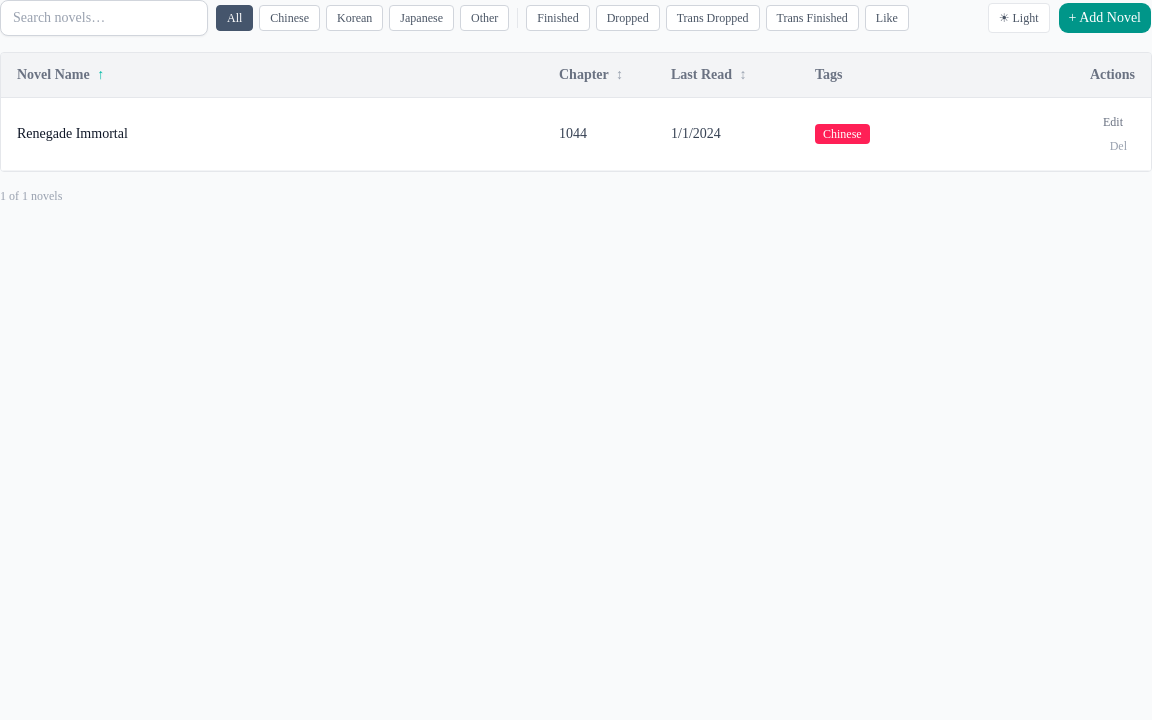
Test: Duplicate detection › shows duplicate notice when an existing name is submitted
Click the button "+ Add Novel" at (1105, 18), box [1058,2,1151,34]
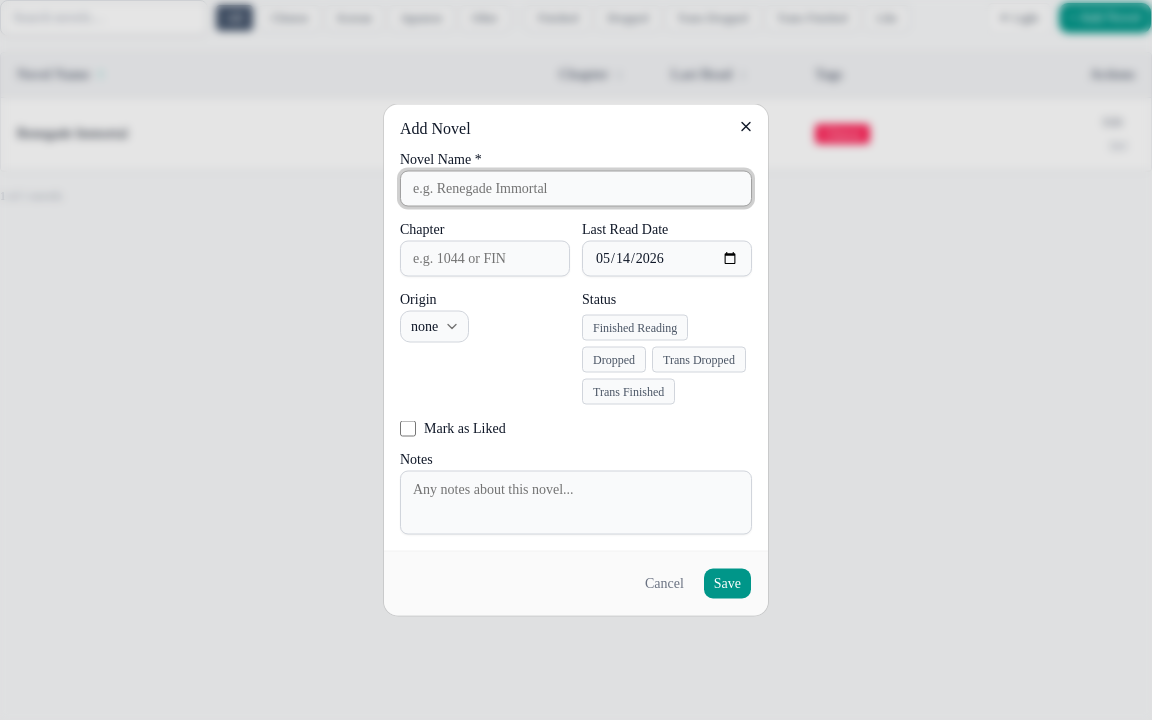
Result: the dialog is shown at [384,104,768,616]
Type "Renegade Immortal" into the field labelled "Novel Name *" at (576, 188), box [400,170,752,206]
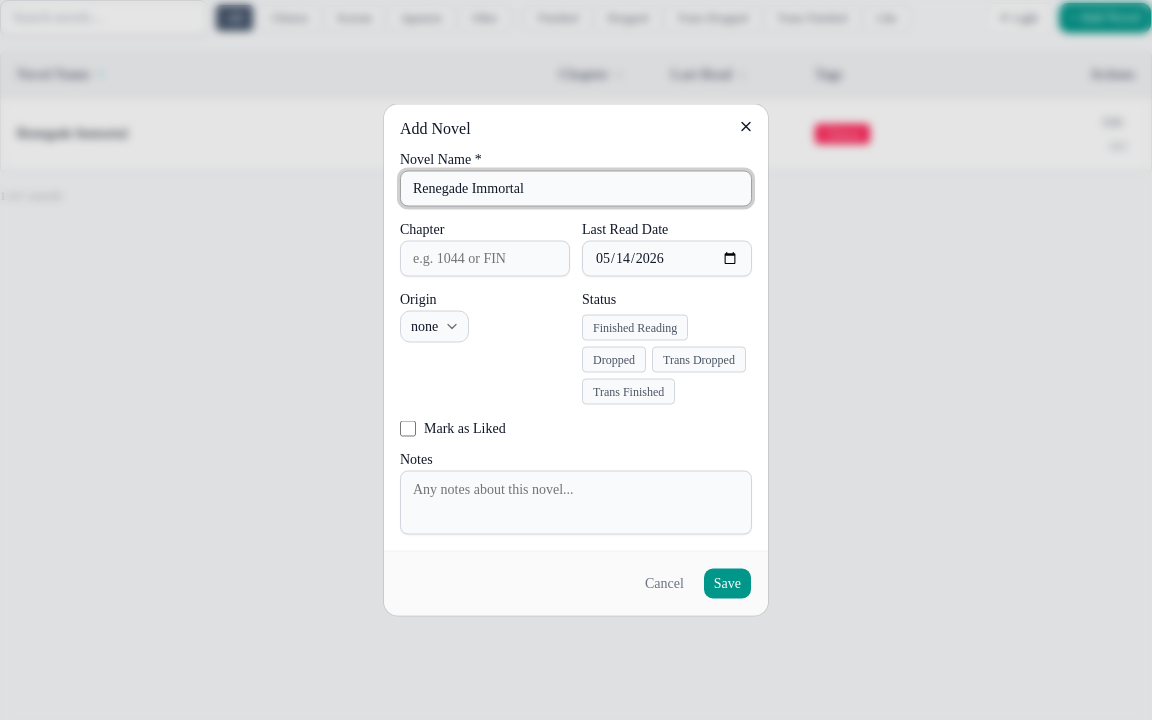
Click the button "Save" at (727, 584), box [703,568,752,600]
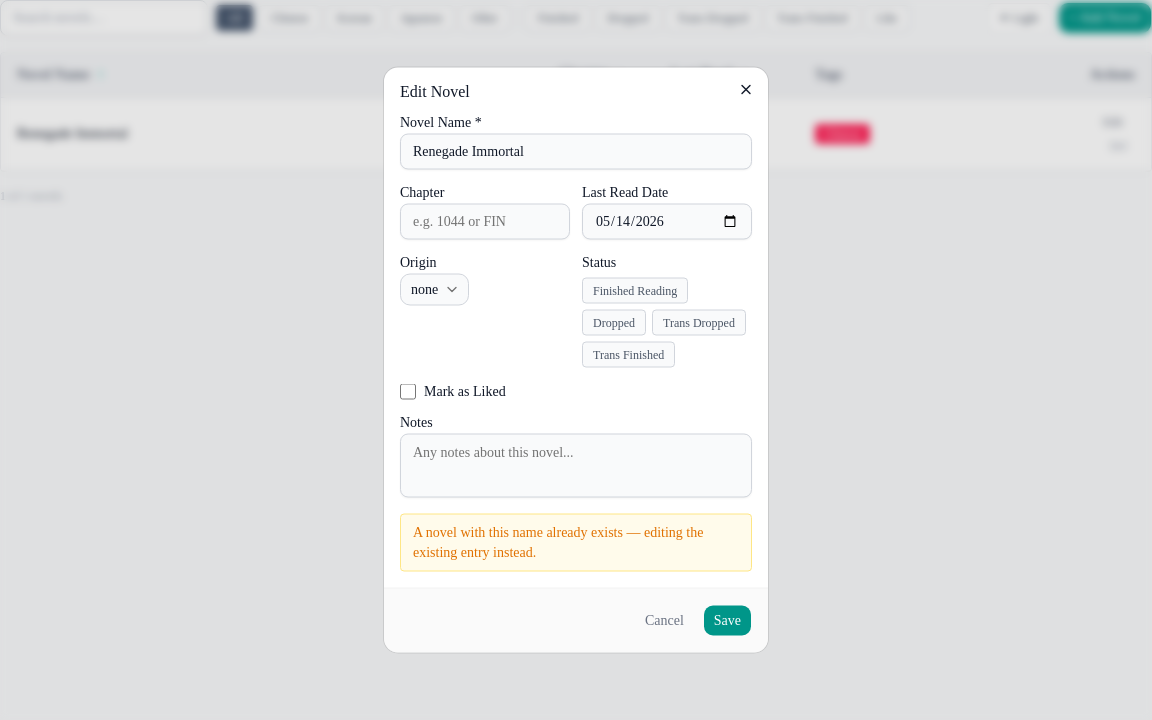
Result: the text "already exists" is shown at [413,524,704,560]
